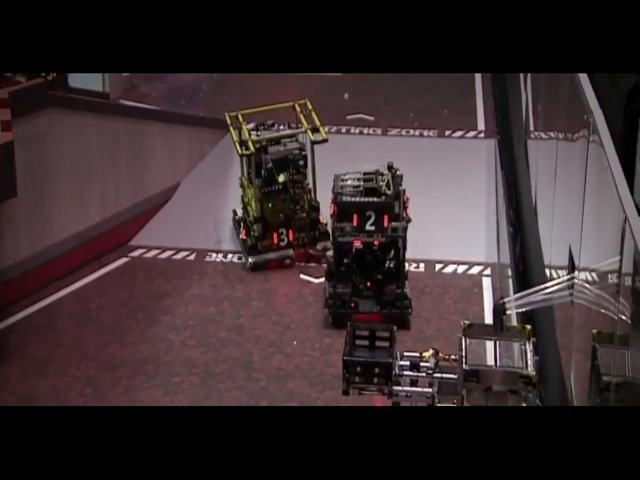bluePlate: (518, 314, 547, 359), (314, 180, 343, 205), (483, 161, 502, 184), (574, 324, 589, 351), (286, 175, 304, 193), (267, 240, 278, 261)
redPlate: (205, 349, 252, 386), (272, 348, 299, 374), (418, 187, 432, 215), (393, 190, 408, 215)
